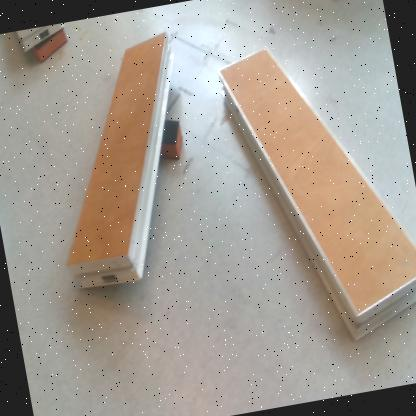Stairs: (219, 46, 416, 343), (66, 32, 174, 291), (15, 24, 64, 53)
